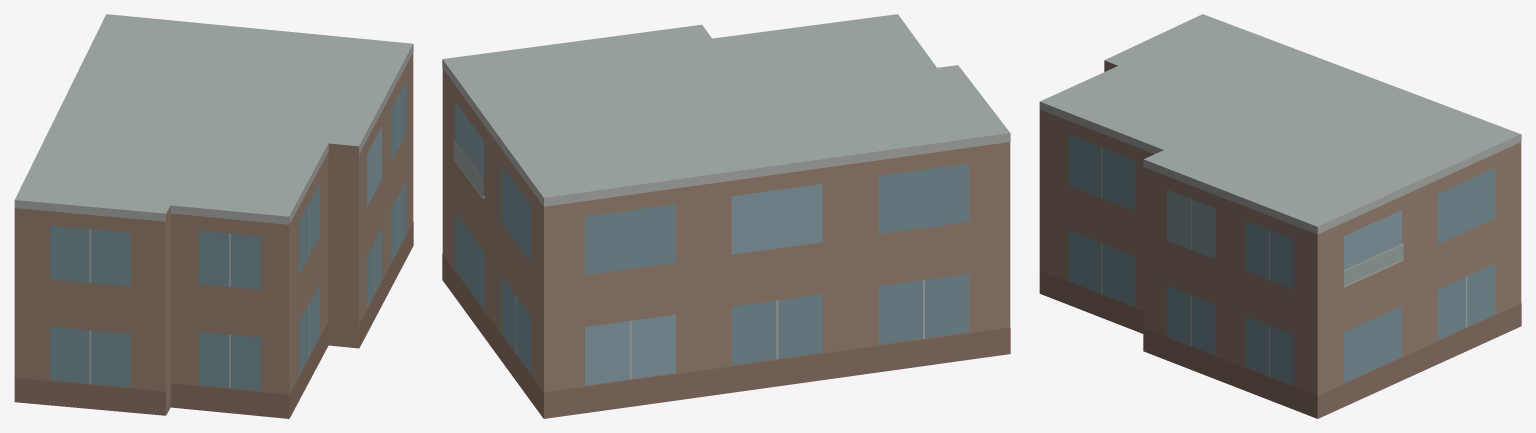
File: survey-upis-32826056.glb
3 views of the same model, side by side, from view 1: azimuth 30°, elevation 25°; view 2: azimuth 150°, elevation 25°; view 3: azimuth 270°, elevation 25° (orthographic). The views are drawn at different scales.
Parts seen in each view (by area): view 1: survey-upis-32826056.tmp; view 2: survey-upis-32826056.tmp; view 3: survey-upis-32826056.tmp.
Part boxes in pixels (left/top/right/bottom): survey-upis-32826056.tmp: left=14, top=14, right=413, bottom=418; survey-upis-32826056.tmp: left=442, top=14, right=1010, bottom=418; survey-upis-32826056.tmp: left=1039, top=14, right=1521, bottom=418.
Size of the model in its own units: 14.52 by 6.1 by 13.88.
